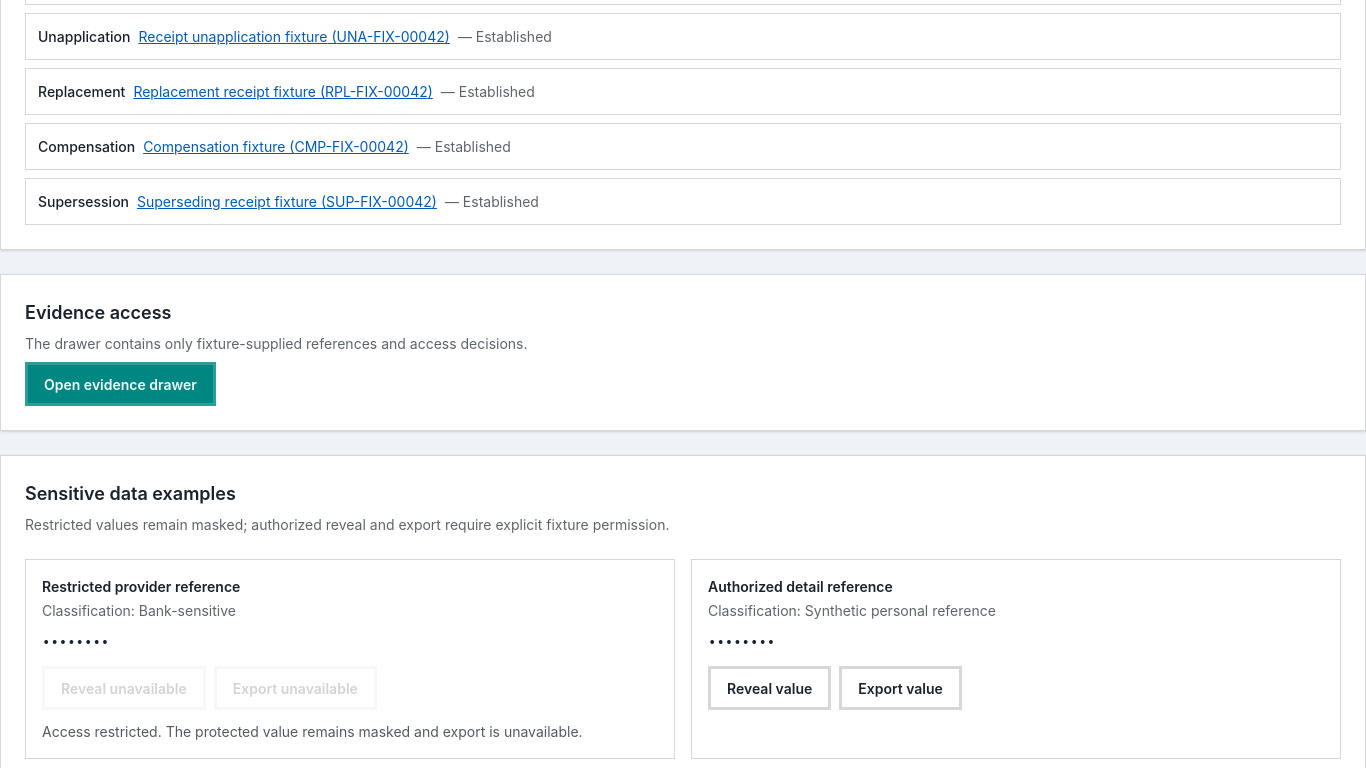
record detail example › combines identity, lifecycle, money, lineage, evidence, privacy, and legal hold surfaces
(page scrolled)
Step 1. Click the button "Open evidence drawer" → [120, 384], box [25,362,216,406]
(page scrolled)
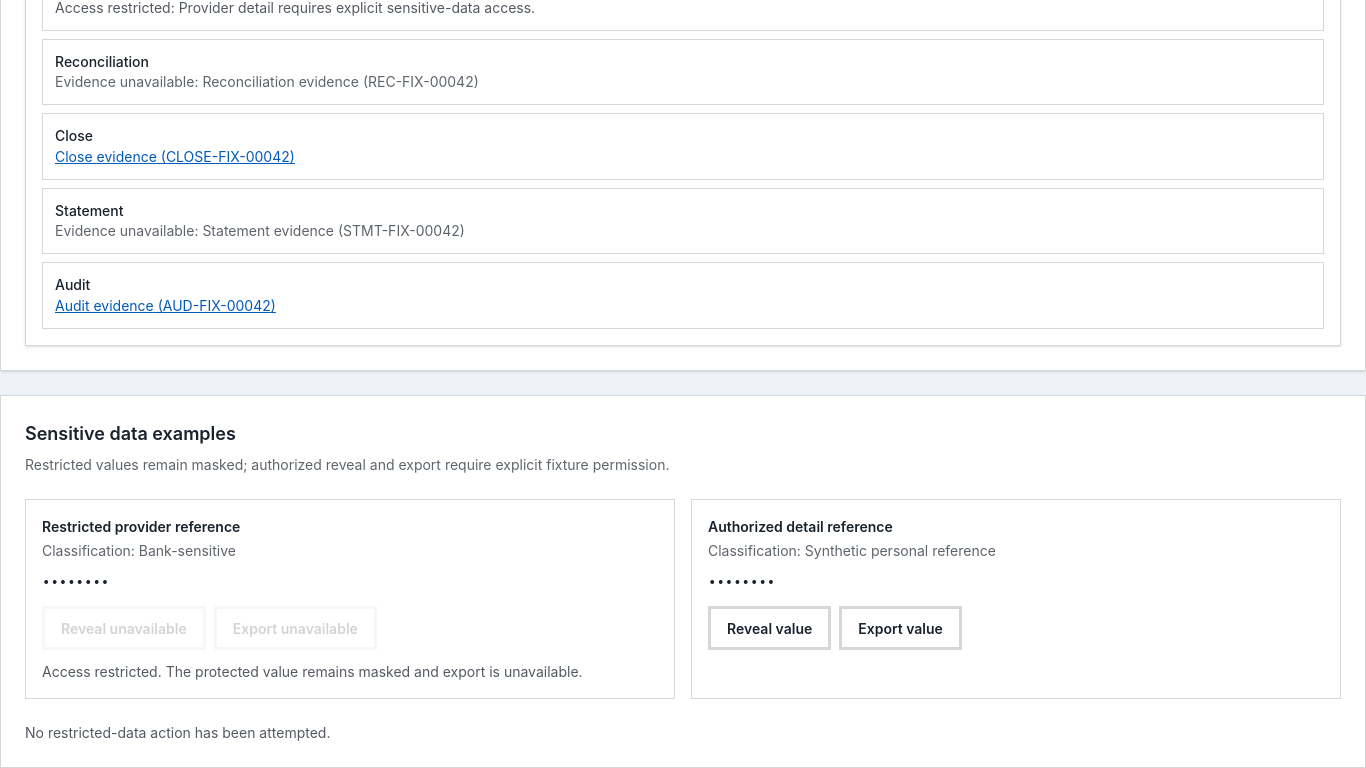
Step 2. Click the button "Reveal value" → [770, 628], box [708,606,831,650]
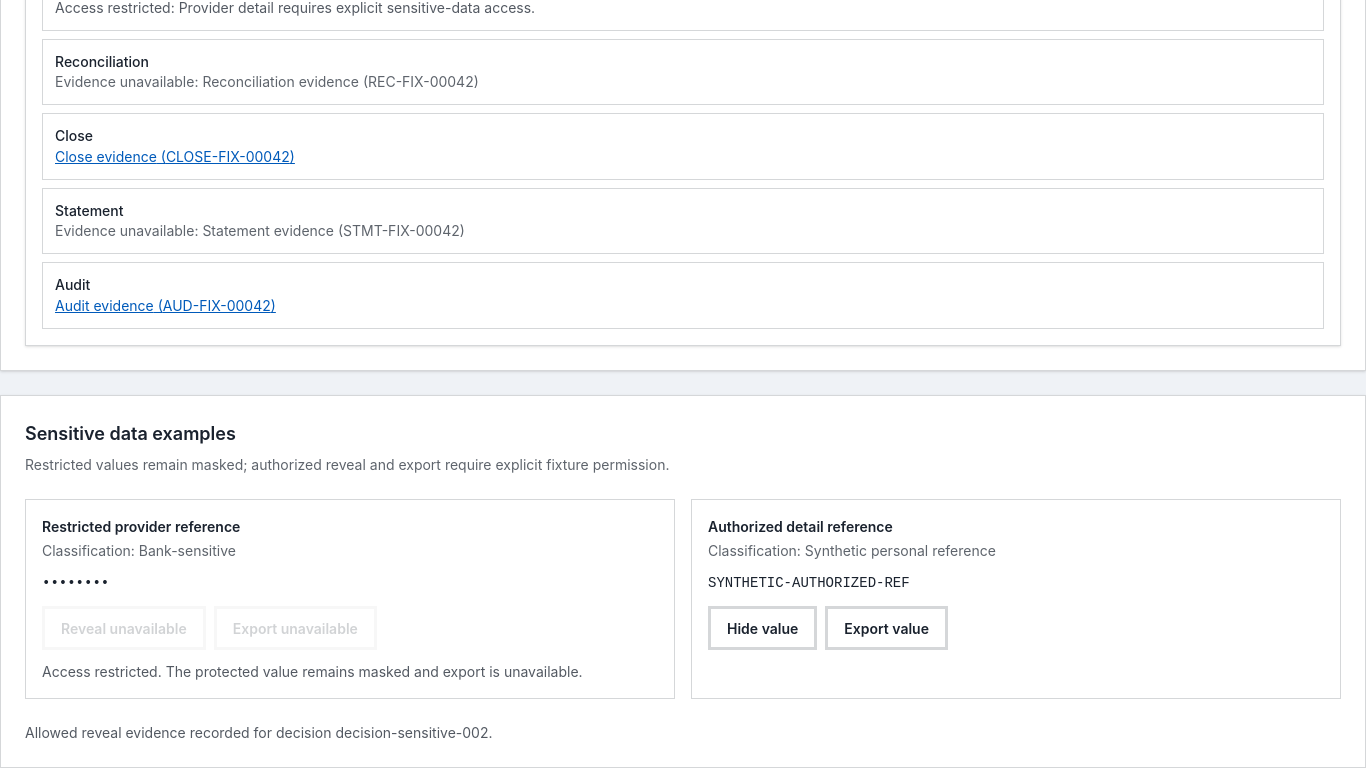
Expected: the text "SYNTHETIC-AUTHORIZED-REF" is shown, [708,575,910,591]
